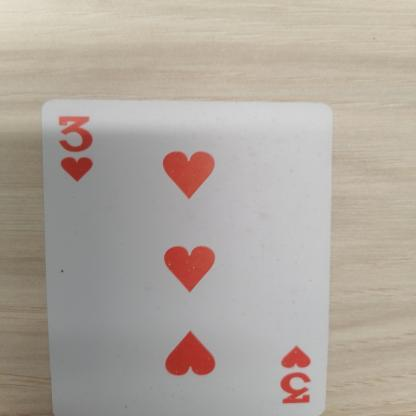3H: (43, 103, 120, 190), (274, 331, 322, 411)
